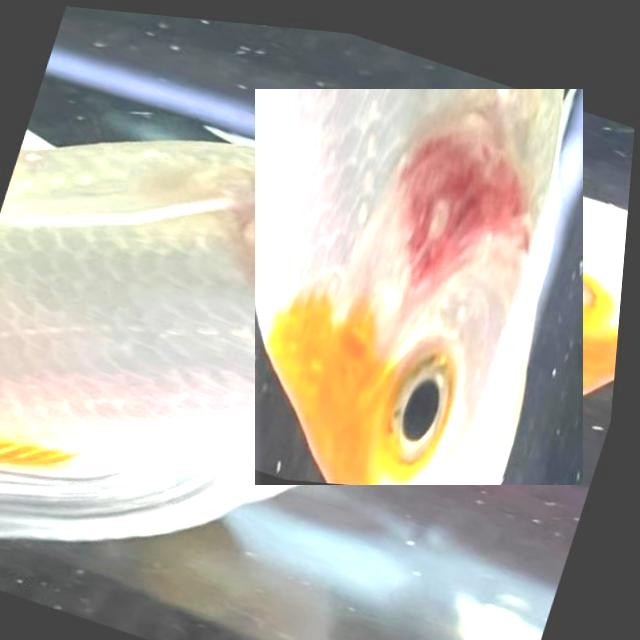Gill Disease: (237, 106, 600, 469)
